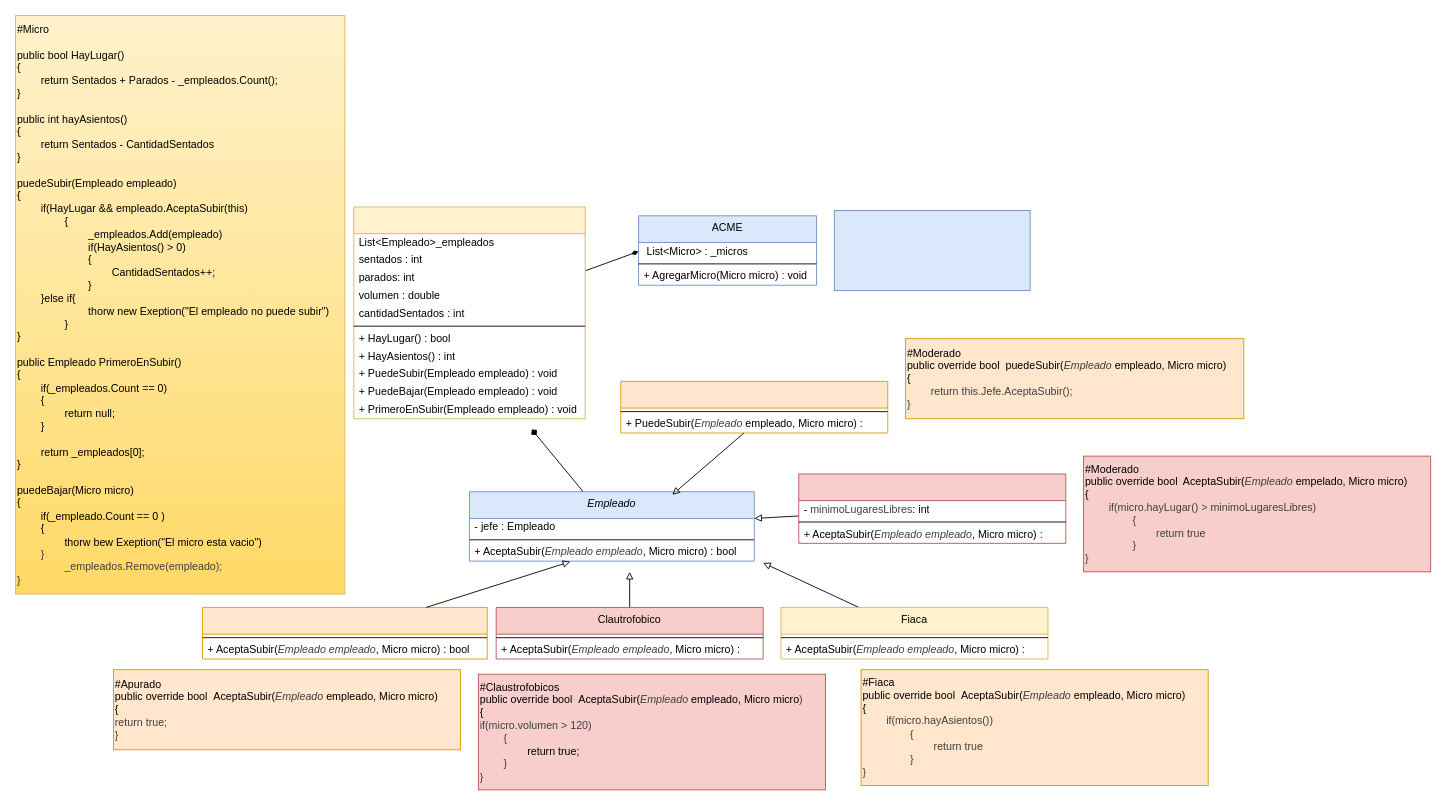
The diagram is 1446 pixels wide and 805 high, and some of its shapes have lost their labels. Here are the shapes that lost their labels. From the top down, the box of each, then its label:
(833, 210, 1030, 291): #ACME public void AgregarMicro(Micro micro) { _micros.Add(micro); }
(353, 206, 585, 419): Micro
(620, 380, 888, 433): Obsecuente
(798, 473, 1066, 543): Moderado
(202, 607, 487, 659): Apurado
